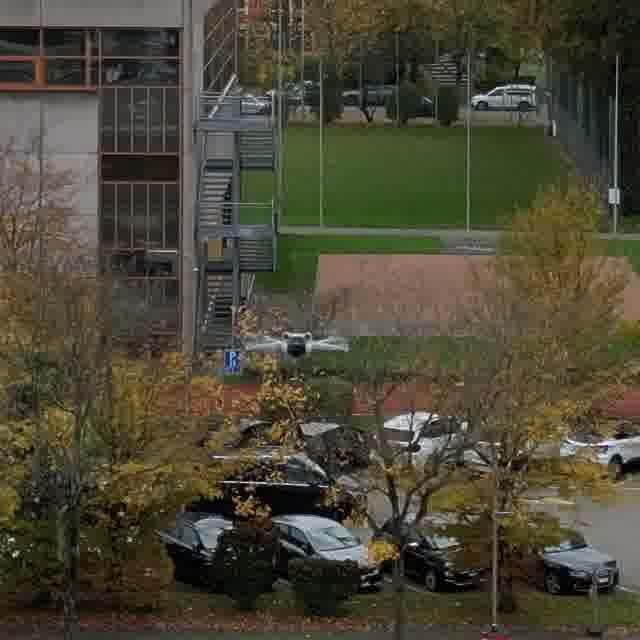Drohne: (245, 331, 349, 359)
